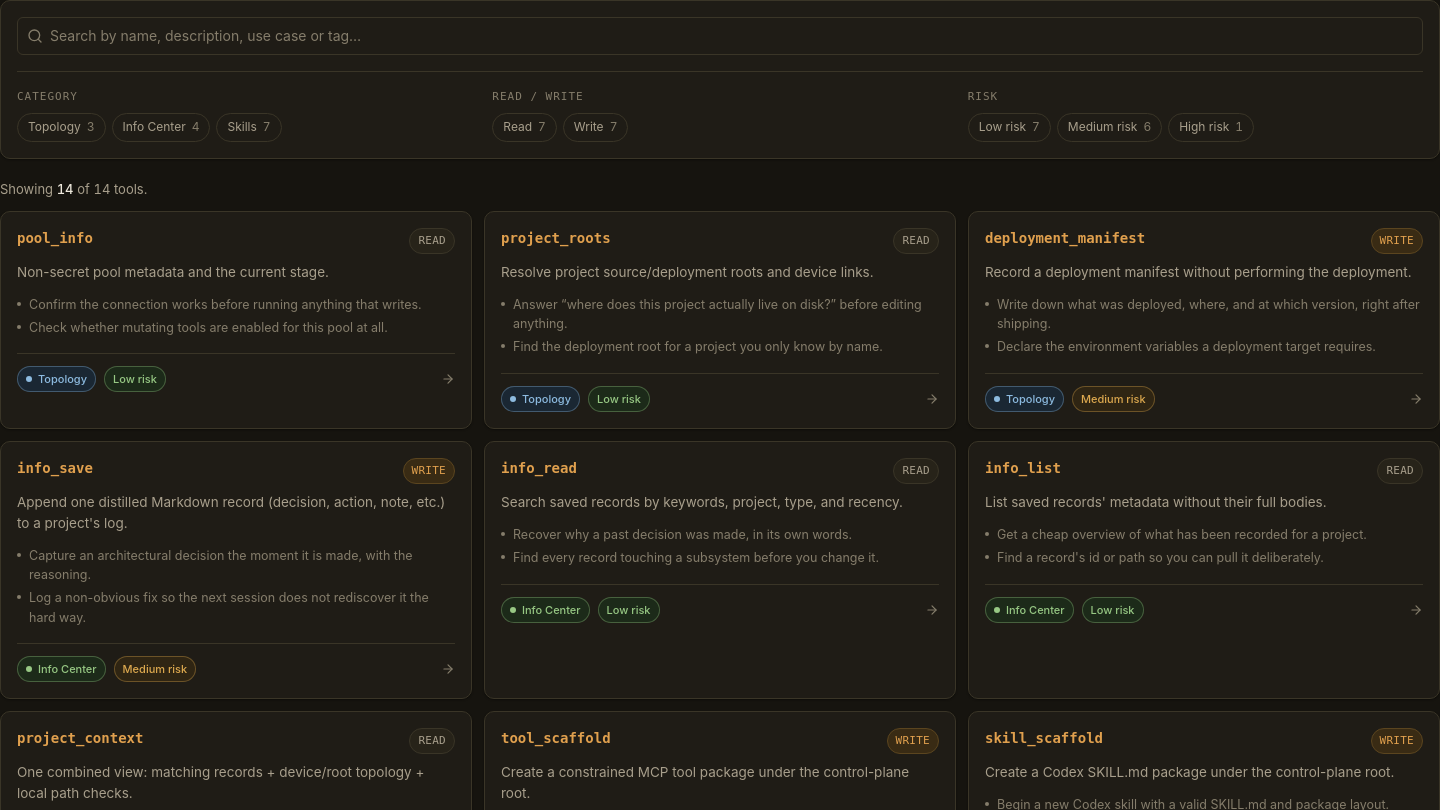
Test: CatalogBrowser — search › shows an empty state, not a blank page, when nothing matches
The image size is (1440, 810).
Type "zzzznomatch" into the search field named "Search tools by name, description, use case or tag". click: (720, 36)
box: x1=17 y1=17 x2=1423 y2=55
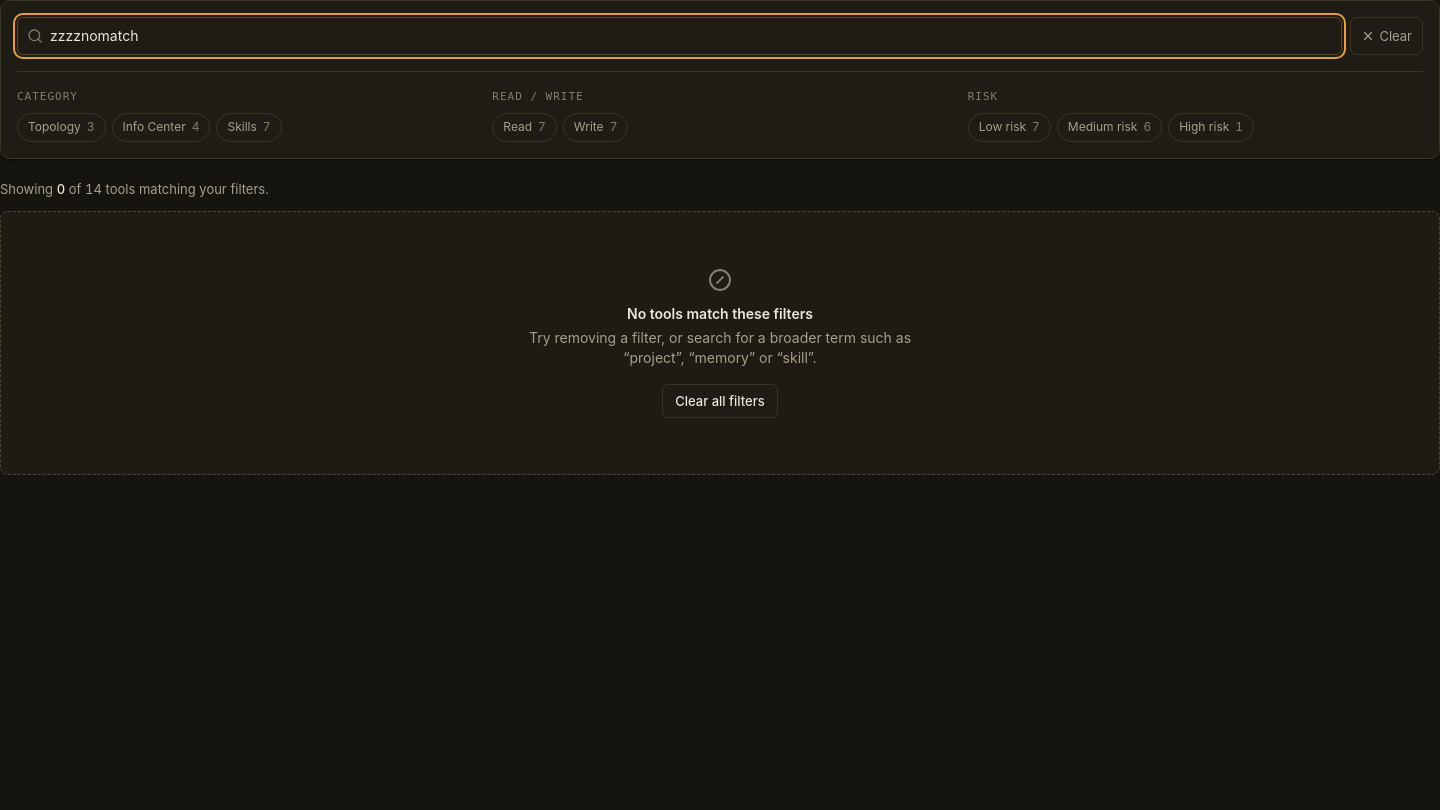
Check: the text "No tools match these filters" is shown, box x1=627 y1=304 x2=813 y2=324
Check: the button "Clear all filters" is shown, box x1=662 y1=384 x2=778 y2=418
